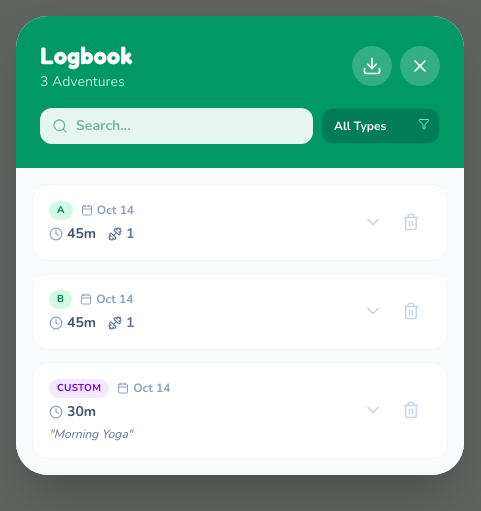
Scenario: HistoryModal Filtering › should filter by type dropdown
This screenshot has width=481, height=511.
Select "Plan A" in the dropdown at point(380, 126), box [321,108,440,144]
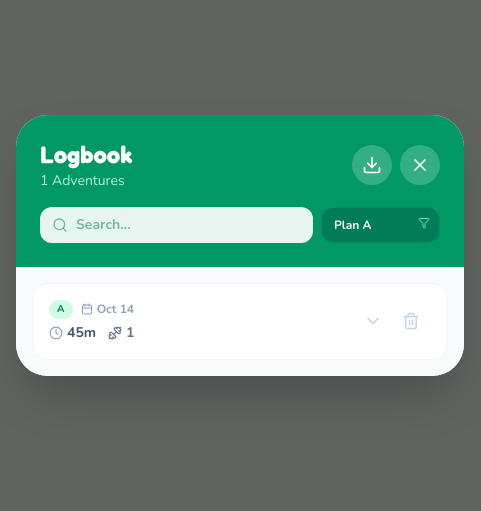
Expected: the element with test id "log-item-1" is shown, [32,282,448,360]
Expected: the element with test id "log-item-2" is gone
Expected: the element with test id "log-item-3" is gone
